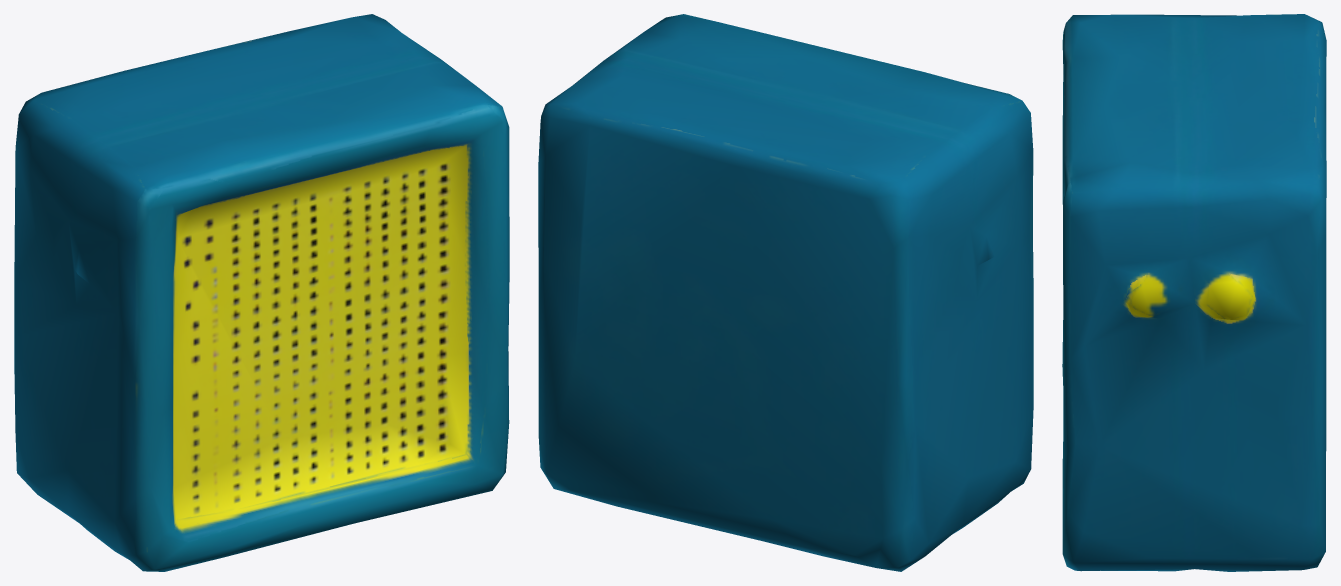
File: pa-speaker.glb
The picture shows the model from 3 angles, left to right: view 1: azimuth 30°, elevation 25°; view 2: azimuth 150°, elevation 25°; view 3: azimuth 270°, elevation 25°; orthographic projection.
Visible parts, largest first — view 1: geometry_0.001; view 2: geometry_0.001; view 3: geometry_0.001.
Boxes of the visible parts, bbox=[...] form: geometry_0.001: bbox=[14, 14, 509, 571]; geometry_0.001: bbox=[538, 14, 1033, 571]; geometry_0.001: bbox=[1062, 14, 1326, 571].
Bounding box in the file's own units: 0.9985 × 0.9801 × 0.585.
1 material, 1 textured.
